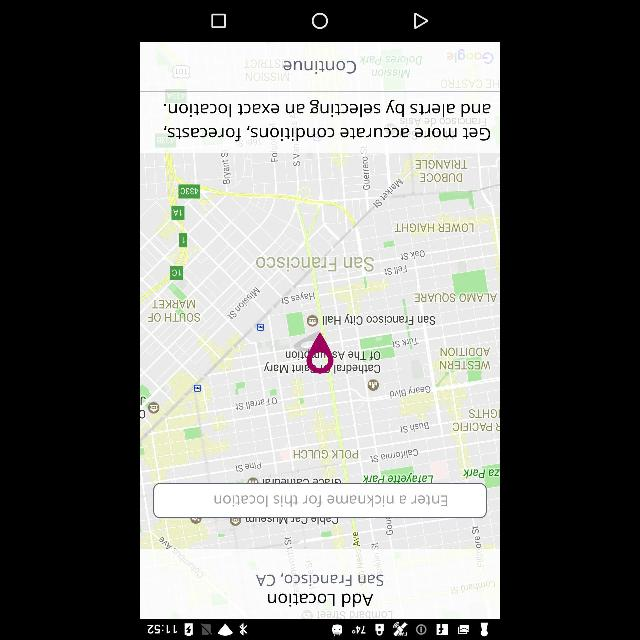icon: (312, 13, 328, 29), (414, 13, 428, 29), (212, 14, 226, 28)
input: (152, 485, 486, 519)
map: (140, 154, 500, 550)
panel: (140, 1, 500, 42)
text: (164, 100, 491, 116), (164, 126, 490, 140), (214, 492, 446, 506), (256, 573, 384, 587), (267, 593, 373, 607), (281, 58, 357, 74)
textbutton: (140, 41, 500, 90)
uppertaskbar: (141, 620, 499, 640)
